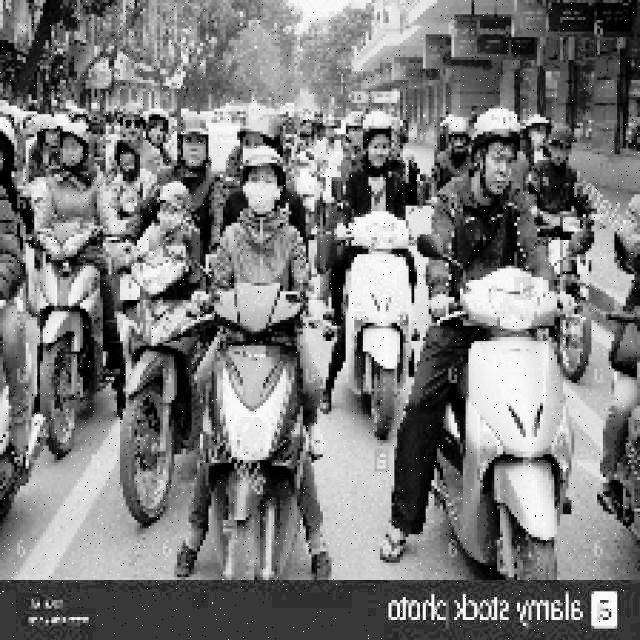Bike: (453, 282, 571, 590), (197, 285, 320, 573), (108, 232, 202, 530), (30, 208, 109, 452), (335, 202, 414, 413)
